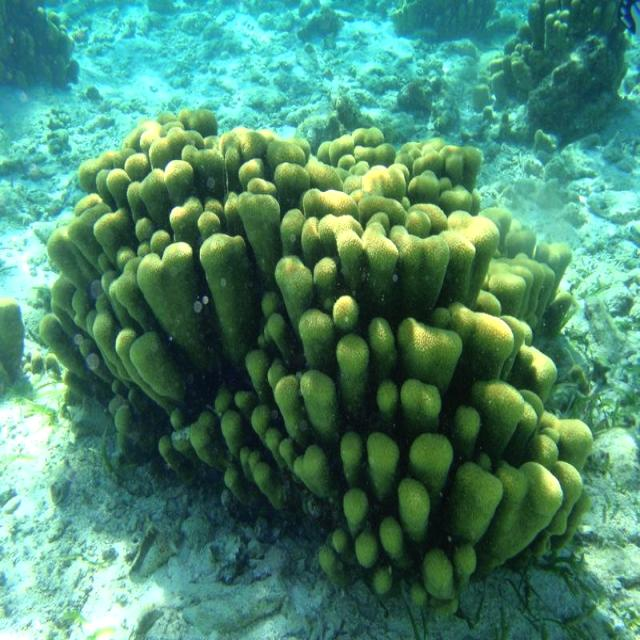Coral: (40, 108, 594, 620), (472, 0, 632, 110), (0, 0, 80, 97), (0, 282, 29, 388)
